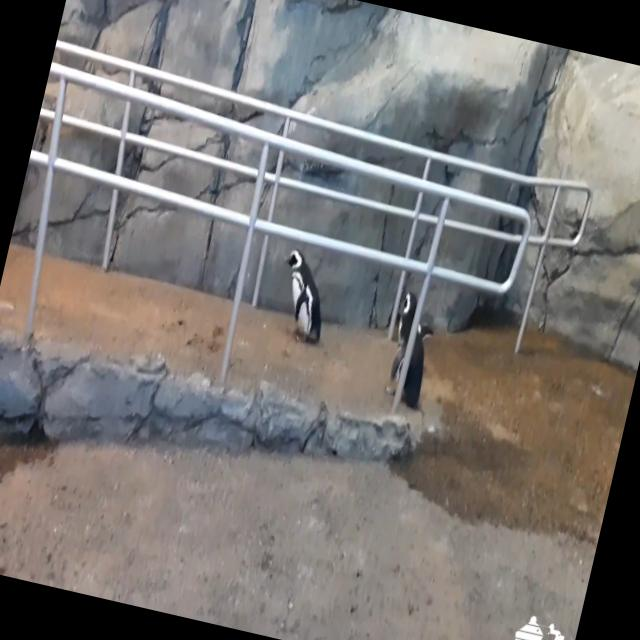penguin: (375, 288, 445, 413), (265, 244, 340, 350)
